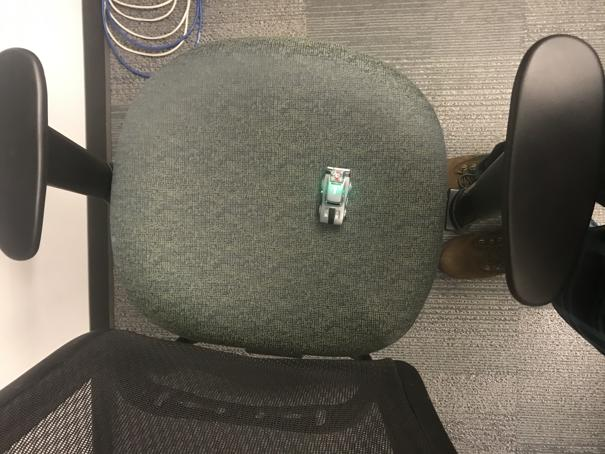Charger: (316, 164, 354, 230)
